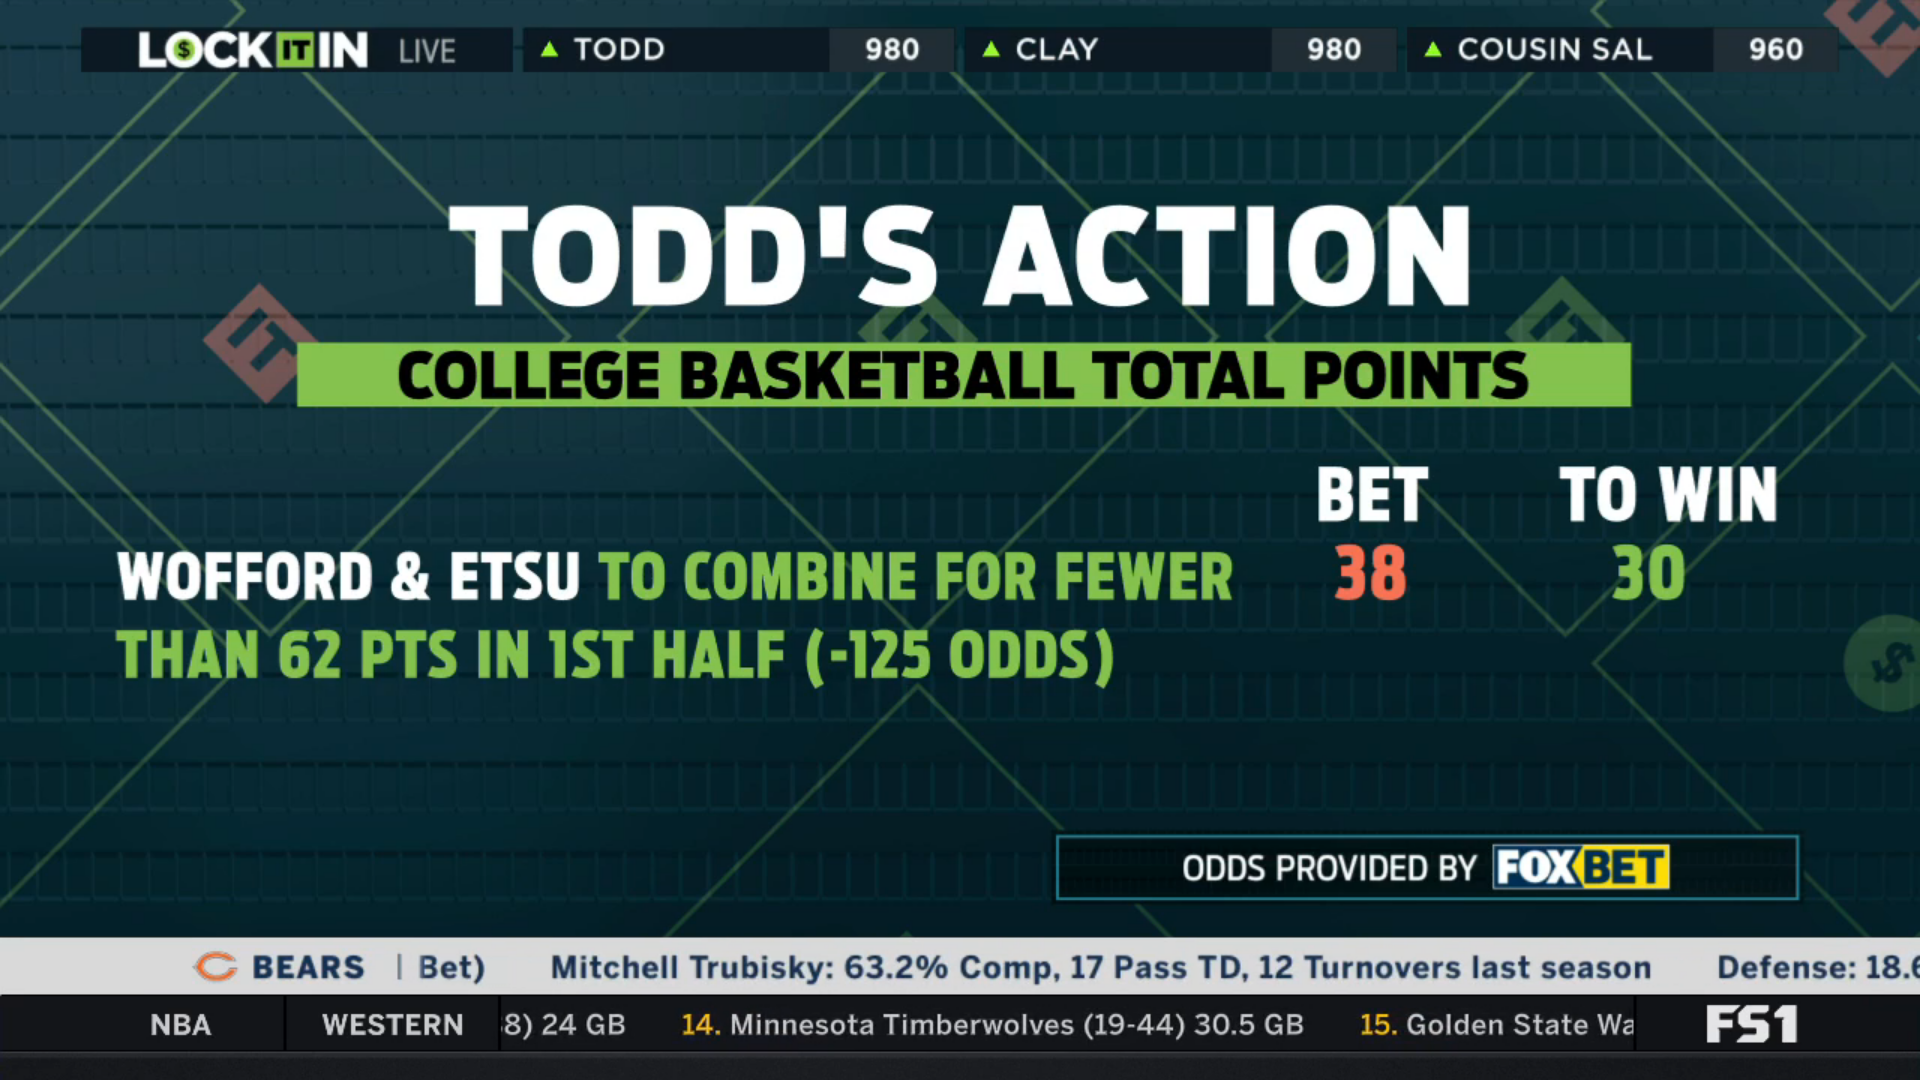Bet: (105, 537, 1251, 702)
Bet Amount: (1307, 455, 1440, 613)
Subtitle: (287, 331, 1644, 419)
Title: (436, 196, 1487, 316)
To Win: (1548, 452, 1793, 617)
Top Bar: (76, 16, 1847, 80)
